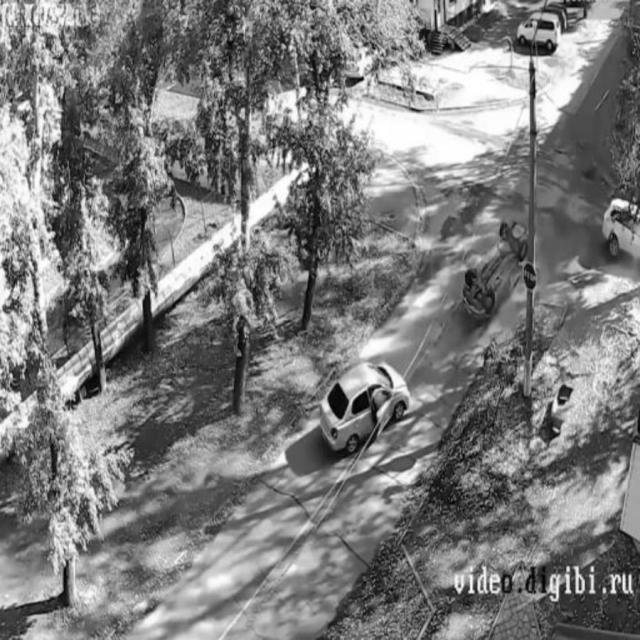vehicle: (317, 363, 417, 451), (458, 220, 529, 320), (603, 185, 640, 269), (517, 7, 561, 47)
